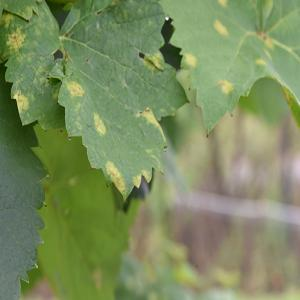Folha: (66, 0, 186, 182), (168, 0, 298, 131), (0, 0, 77, 150), (0, 67, 48, 299)
Fungo: (104, 159, 126, 202), (5, 26, 26, 52), (255, 26, 274, 50), (143, 52, 164, 71), (44, 0, 79, 11), (260, 0, 273, 29), (66, 80, 85, 99), (93, 111, 106, 137), (213, 18, 228, 37), (217, 78, 234, 94), (180, 53, 197, 69), (16, 92, 29, 112), (46, 72, 62, 85), (254, 24, 267, 40), (262, 35, 274, 50), (52, 48, 64, 62), (44, 0, 78, 4), (255, 58, 267, 66), (218, 0, 228, 8), (165, 13, 169, 21), (262, 32, 266, 40), (68, 134, 72, 140)
